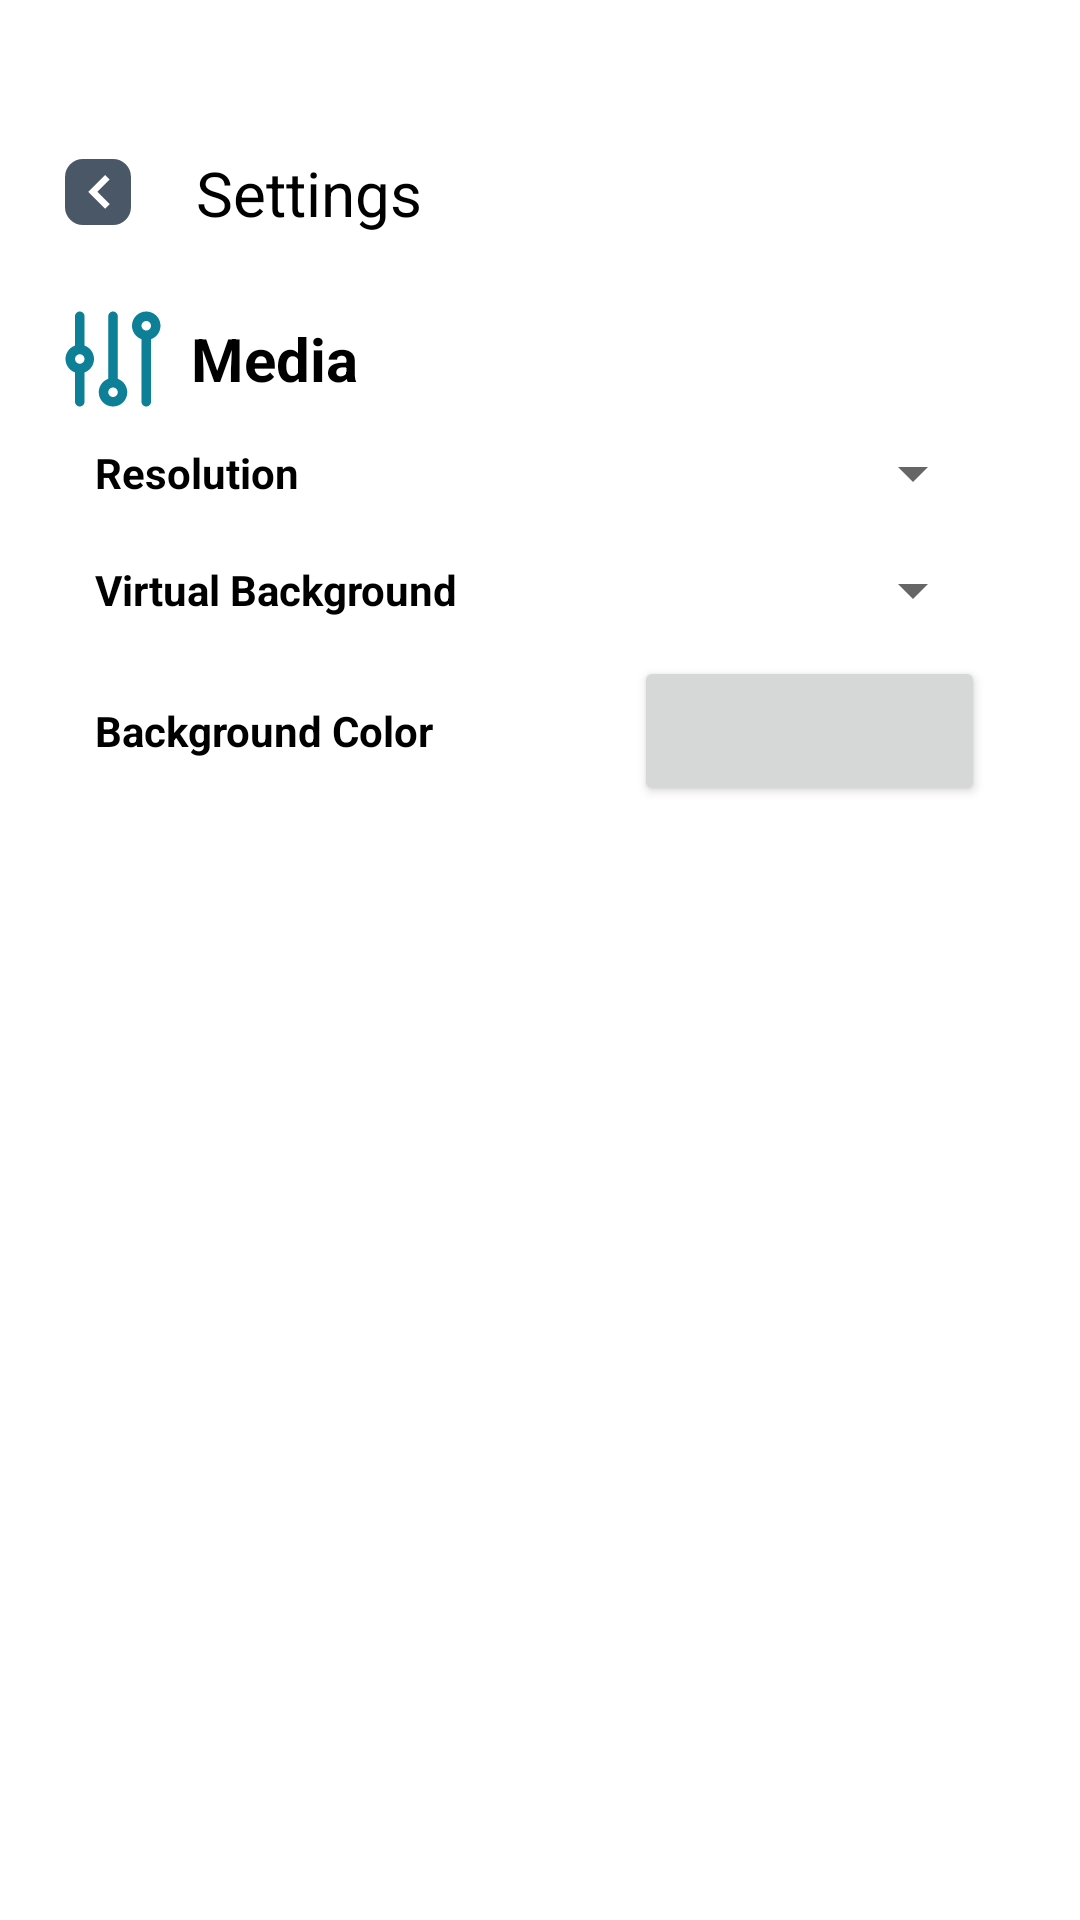

Icon bounding boxes for this 1080 x 1920 phone screenshot, format detection(x1, y1, x2, y2):
Icon Back: detection(65, 159, 131, 225)
